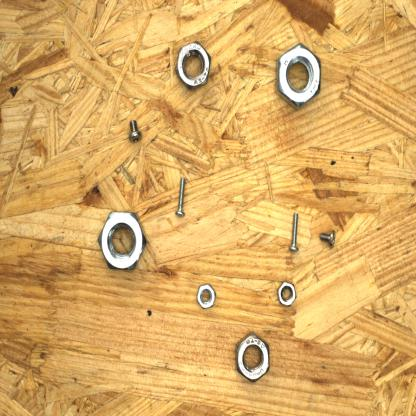screw: (170, 173, 193, 221), (285, 209, 303, 254), (124, 117, 144, 147), (315, 226, 338, 252)
